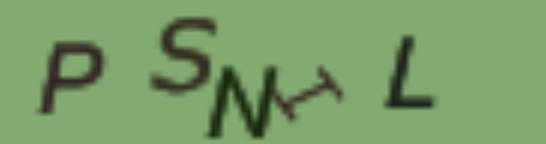I: (274, 59, 350, 122)
L: (379, 32, 441, 111)
N: (205, 61, 281, 142)
P: (34, 35, 106, 118)
S: (145, 13, 219, 96)
